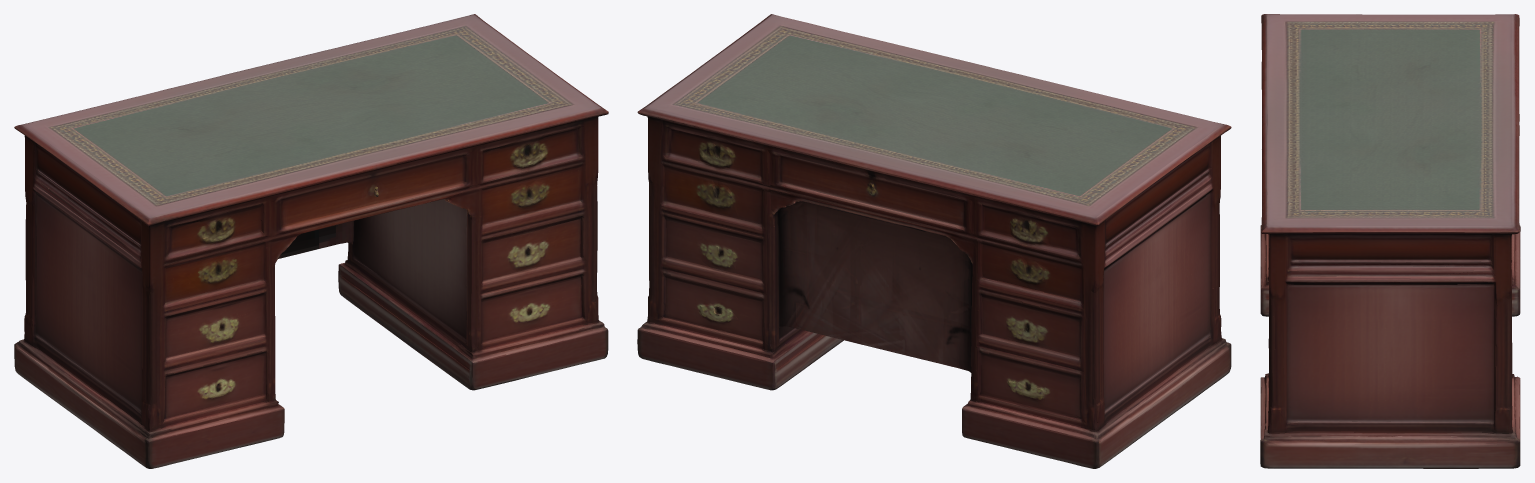
The picture shows the model from 3 angles, left to right: view 1: azimuth 30°, elevation 25°; view 2: azimuth 150°, elevation 25°; view 3: azimuth 270°, elevation 25°; orthographic projection. The views are drawn at different scales.
Parts seen in each view (by area): view 1: world; view 2: world; view 3: world.
Part boxes in pixels (<box>): world: <box>14,14,608,468</box>; world: <box>637,14,1231,468</box>; world: <box>1260,14,1520,468</box>.
Size of the model in its own units: 1 by 0.5206 by 0.5057.
Materials: 1 (1 with a texture image).
